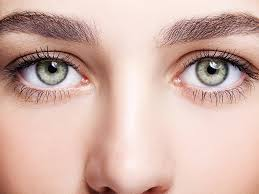pupil: (36, 58, 68, 85), (196, 58, 228, 85)
